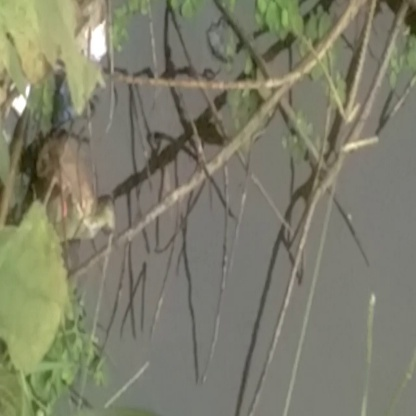branch: (118, 1, 355, 212)
